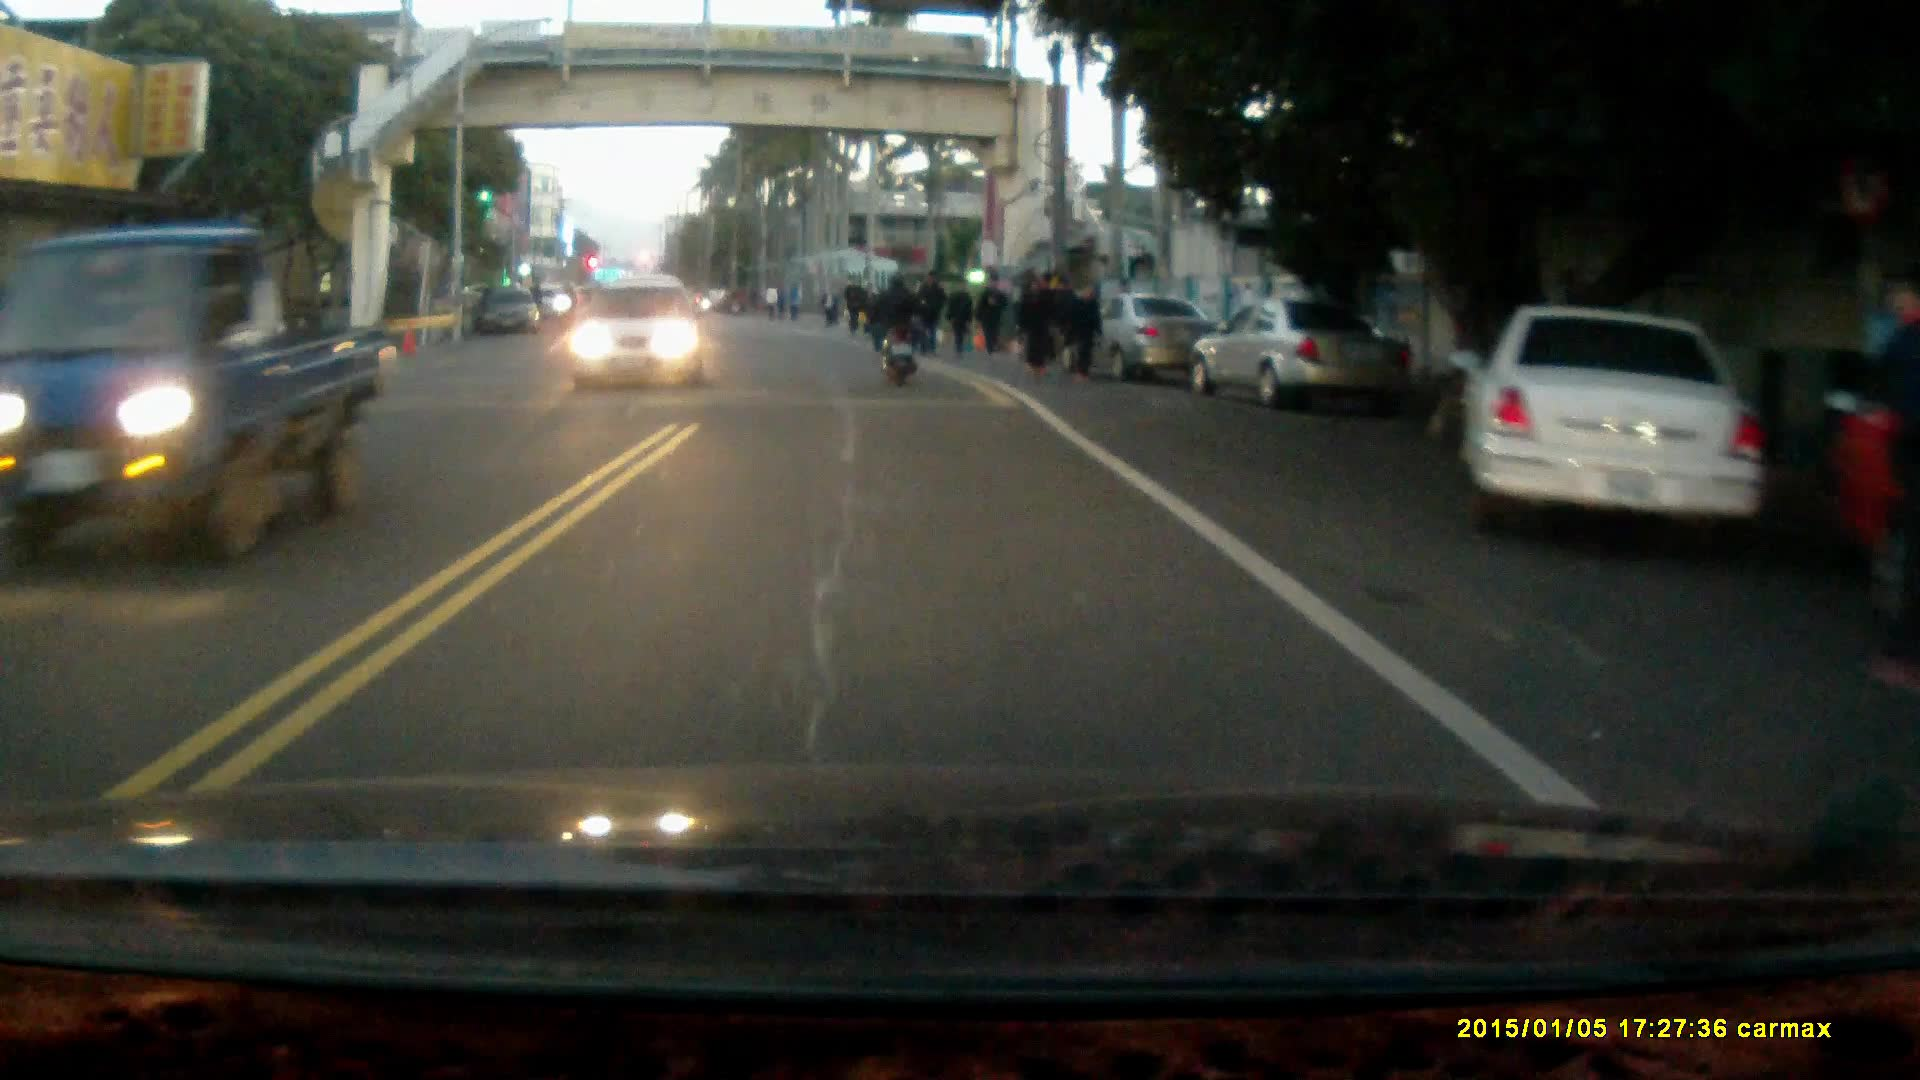pedestrian: (1870, 277, 1920, 694), (1014, 273, 1048, 377), (1036, 271, 1067, 372), (1069, 283, 1102, 375), (973, 269, 1005, 359), (913, 270, 946, 356), (944, 277, 977, 359)
rider: (867, 272, 922, 390)
vehicle: (15, 222, 381, 587), (1454, 306, 1797, 564), (1195, 297, 1408, 414), (570, 279, 709, 392), (1096, 294, 1226, 390)
